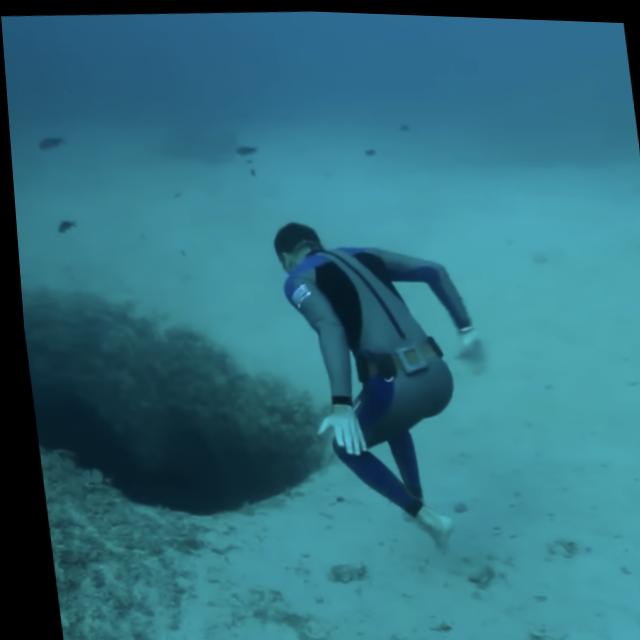human: (261, 202, 498, 563)
